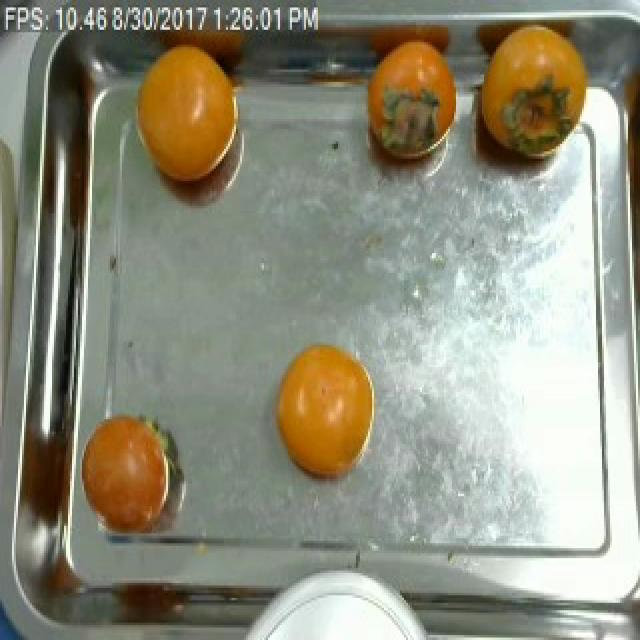Fruit: (462, 10, 588, 186), (124, 37, 250, 196), (262, 332, 380, 492), (350, 22, 458, 188), (78, 399, 194, 548)
